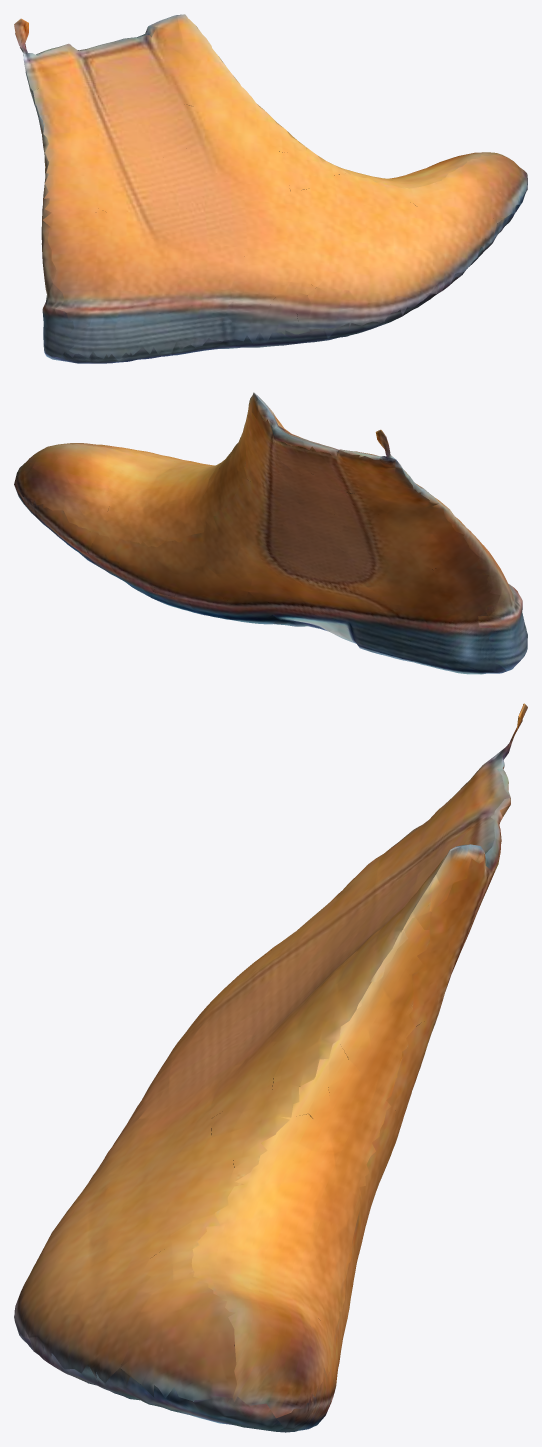
3 renders of one model, top to bottom at view 1: azimuth 30°, elevation 25°; view 2: azimuth 150°, elevation 25°; view 3: azimuth 270°, elevation 25°, orthographic. The views are drawn at different scales.
Visible parts, largest first — view 1: world; view 2: world; view 3: world.
Boxes of the visible parts, x1,y1,x2,y2 form: world: [14, 14, 527, 363]; world: [14, 392, 527, 674]; world: [14, 703, 527, 1432].
Bounding box in the file's own units: 1.01 × 0.5689 × 0.542.
Materials: 1 (1 with a texture image).
